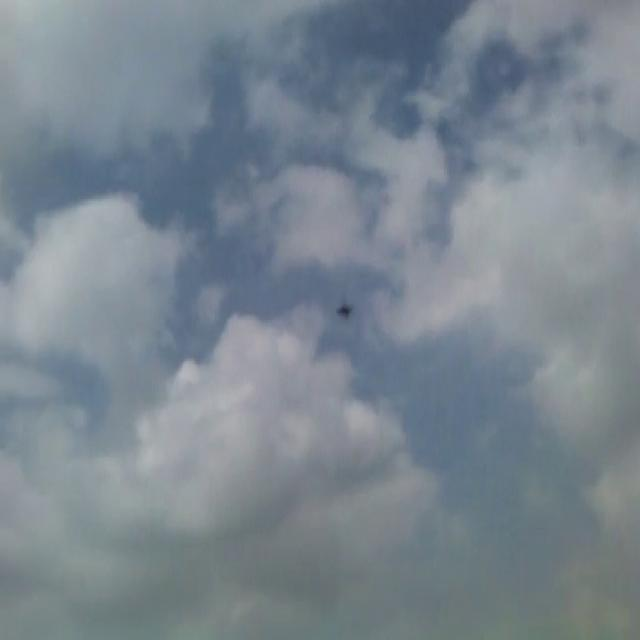drone: (333, 290, 356, 320)
